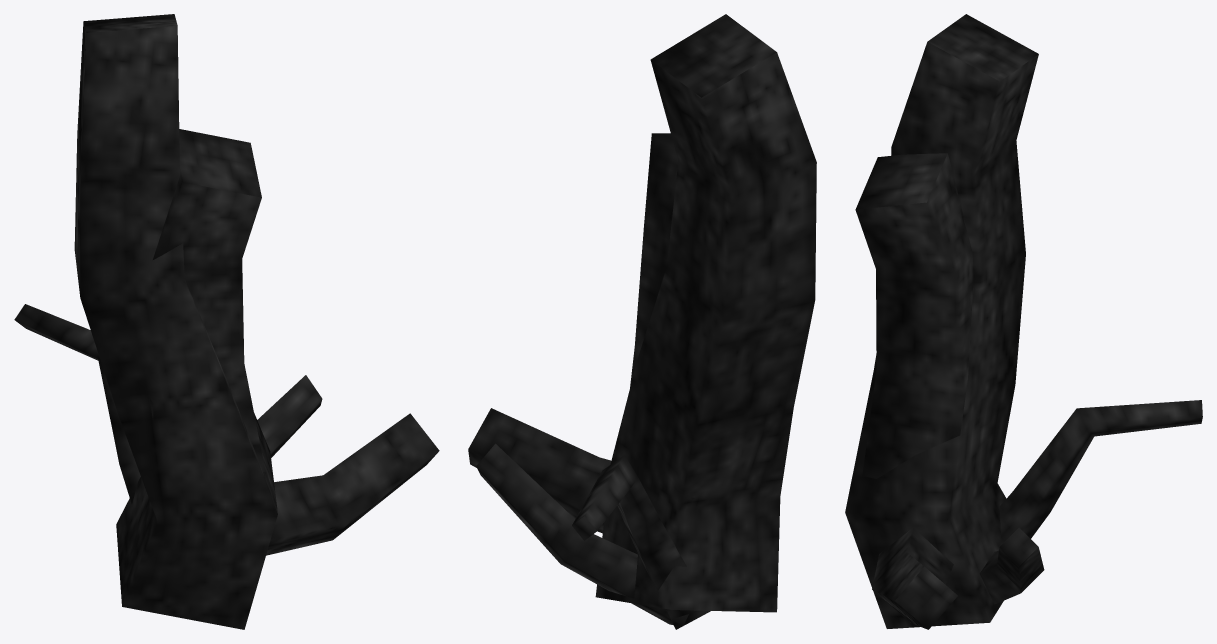
Rendered from Medium_Tree_1_Future.fbx.
3 renders of one model, left to right at view 1: azimuth 30°, elevation 25°; view 2: azimuth 150°, elevation 25°; view 3: azimuth 270°, elevation 25°, orthographic. The views are drawn at different scales.
Parts seen in each view (by area): view 1: medium tree.002; view 2: medium tree.002; view 3: medium tree.002.
Part boxes in pixels (x1,y1,x2,y2): medium tree.002: [14, 14, 439, 629]; medium tree.002: [468, 14, 816, 629]; medium tree.002: [845, 14, 1202, 629].
Size of the model in its own units: 991 by 1660 by 950.
